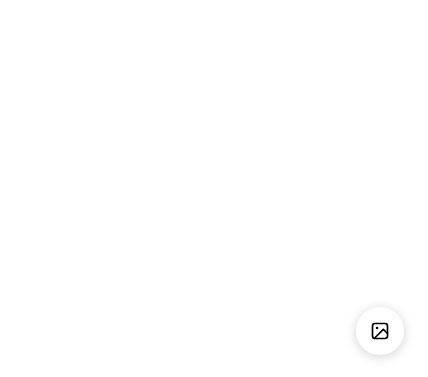
Test: ImageChatPopup › opens popup when FAB is clicked
What coordinates should you click on to do the following:
click the button named "upload image"
I would click on:
 (380, 331)
Its box is [356,307,404,355].
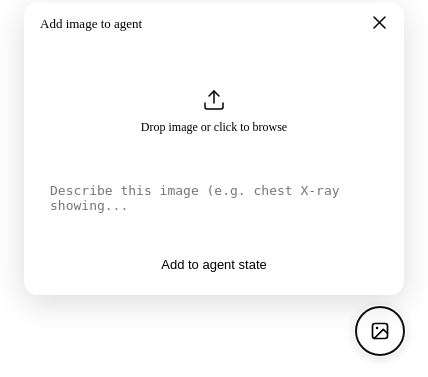
Expected: the text "Add image to agent" is shown, [40,16,142,32]
